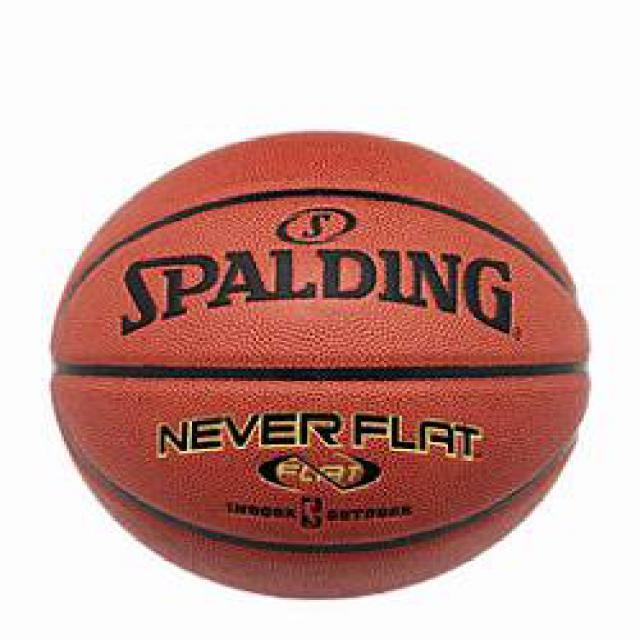basketball: (53, 127, 590, 601)
